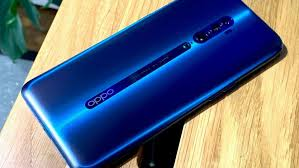oppo: (19, 1, 288, 168)
